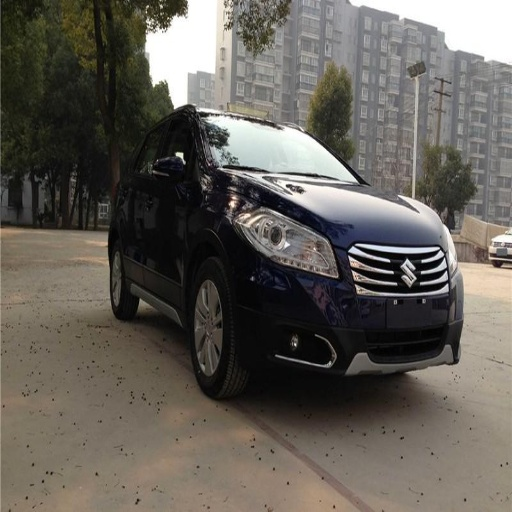front_bumper: (231, 244, 462, 371)
front_right_door: (146, 112, 196, 304)
front_right_light: (230, 186, 338, 277)
